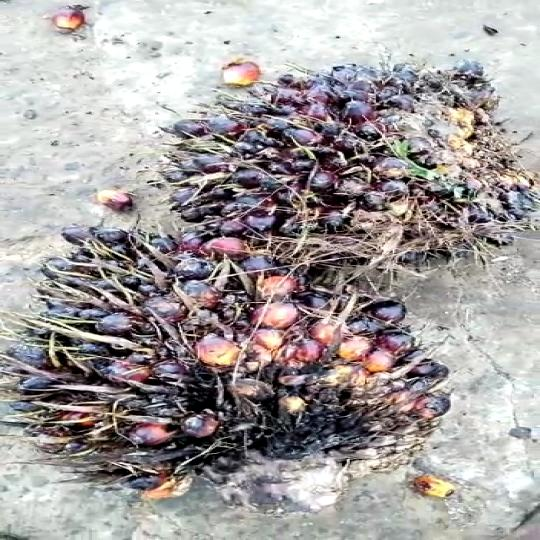kurang masak: (0, 213, 457, 519), (151, 56, 540, 264)
